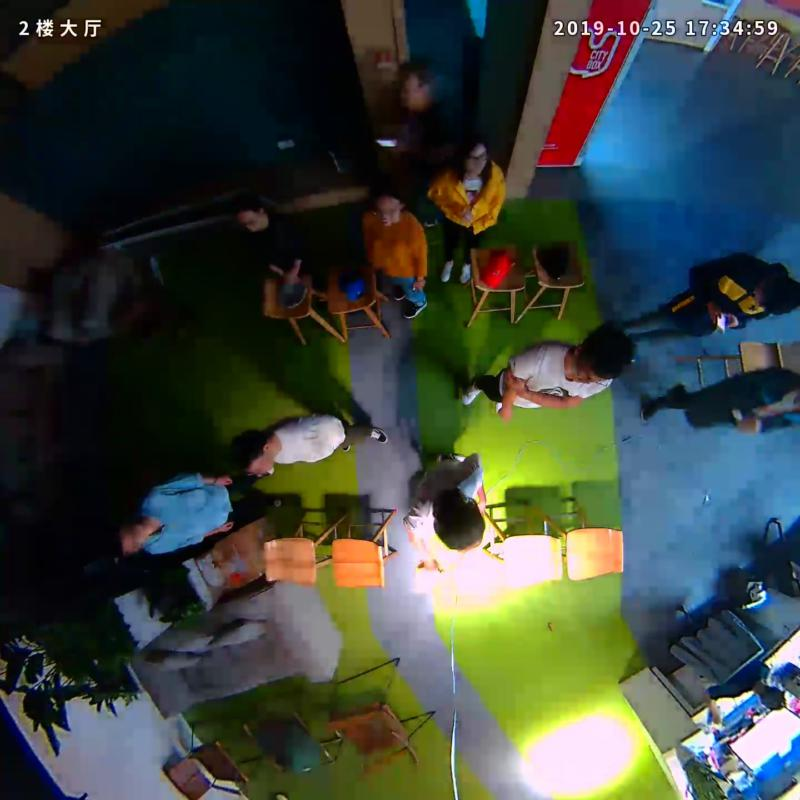head: (570, 325, 636, 386), (434, 495, 486, 551), (229, 430, 278, 478), (753, 271, 800, 316), (395, 58, 431, 111), (100, 520, 148, 558), (367, 182, 405, 227), (453, 135, 491, 177), (235, 195, 269, 233)
